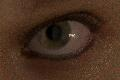eye: (41, 21, 70, 49)
